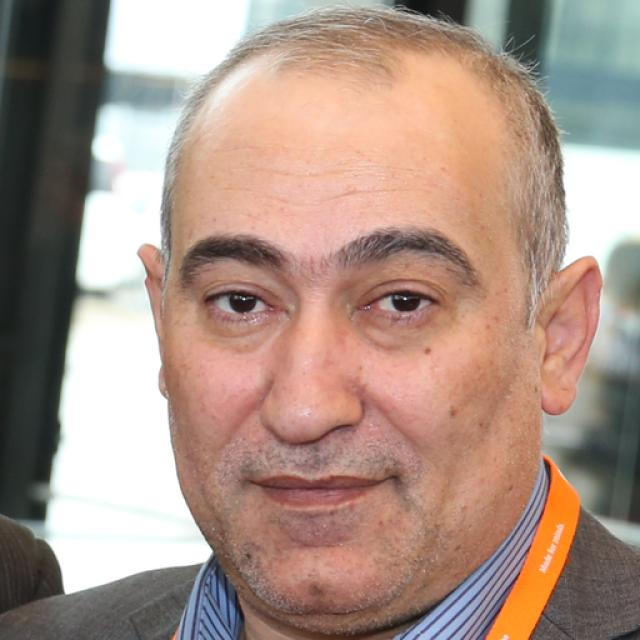Wrinkle: (214, 177, 445, 216), (238, 159, 446, 179)
